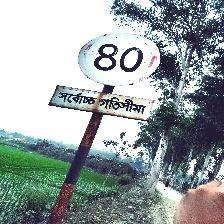Speed-limit: (49, 31, 161, 121)
